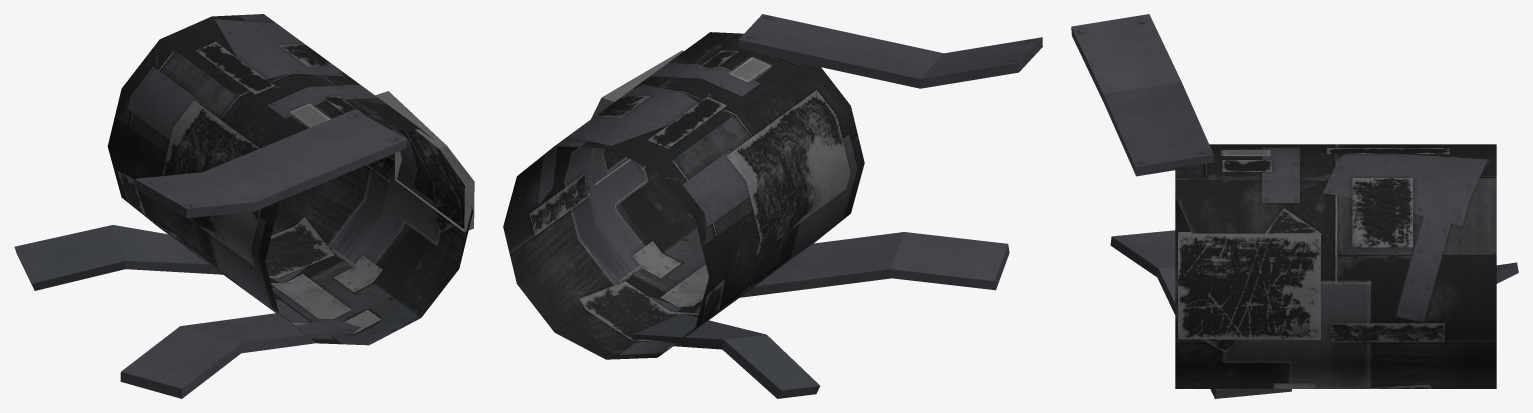
Rendered from HCD2.fbx.
3 renders of one model, left to right at view 1: azimuth 30°, elevation 25°; view 2: azimuth 150°, elevation 25°; view 3: azimuth 270°, elevation 25°, orthographic. The views are drawn at different scales.
Visible parts, largest first — view 1: twoD; view 2: twoD; view 3: twoD.
Part boxes in pixels (x1,y1,x2,y2): twoD: (14,14,474,398); twoD: (503,14,1042,398); twoD: (1071,14,1518,398).
Size of the model in its own units: 5617 by 3763 by 5969.
1 material, 1 textured.
